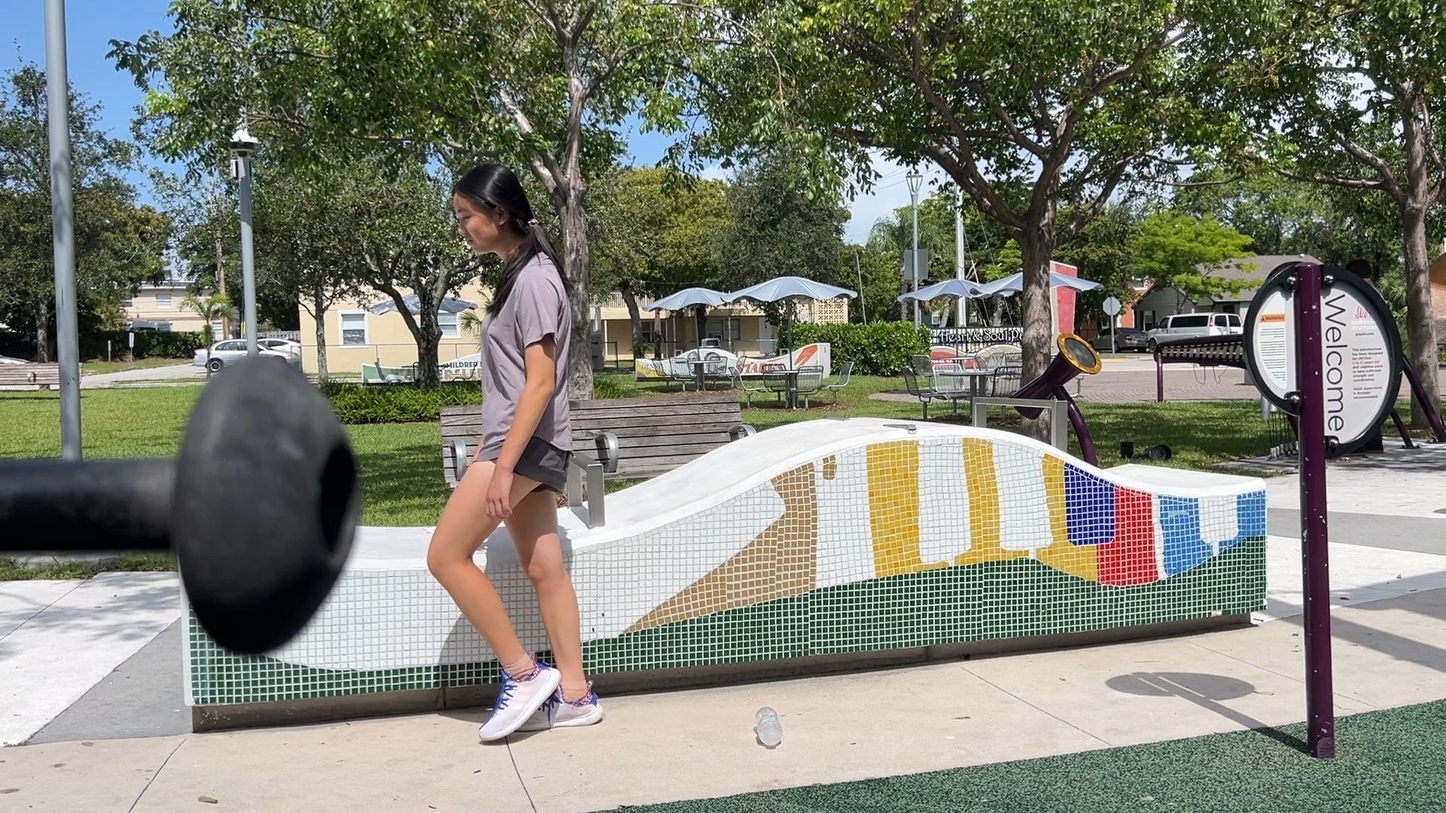Trash: (738, 703, 806, 764)
